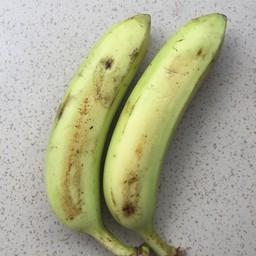Good_banana: (45, 12, 232, 241), (63, 17, 140, 223)
